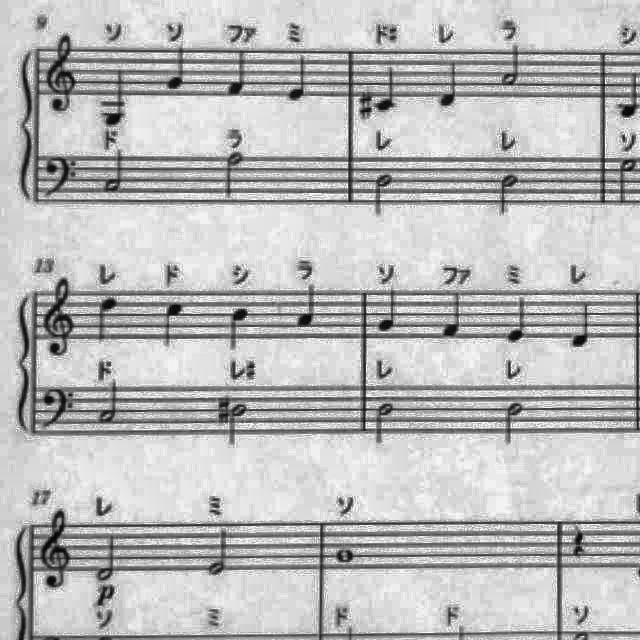Bass-clef: (42, 147, 82, 200), (40, 384, 80, 436)
Diez: (356, 87, 374, 121), (216, 392, 232, 428)
Full-note: (331, 544, 361, 568)
Half-note: (90, 527, 122, 585), (202, 524, 234, 580), (220, 149, 248, 203), (94, 374, 122, 426), (614, 154, 640, 210), (500, 398, 528, 449), (372, 398, 400, 448), (102, 147, 130, 197), (368, 171, 396, 221), (496, 171, 522, 221), (498, 42, 522, 90)
Quarter-note: (96, 66, 132, 130), (568, 297, 598, 351), (439, 287, 469, 341), (159, 297, 189, 351), (94, 292, 122, 348), (503, 292, 532, 346), (291, 282, 321, 334), (225, 302, 255, 354), (374, 284, 402, 338), (436, 58, 464, 112), (164, 42, 192, 94), (225, 46, 253, 98), (615, 68, 640, 123), (375, 64, 401, 116), (286, 50, 310, 104), (639, 68, 640, 123)
Quarter-rest: (566, 520, 594, 562)
Treble-clef: (37, 504, 79, 594), (43, 28, 85, 116), (42, 274, 82, 362)
